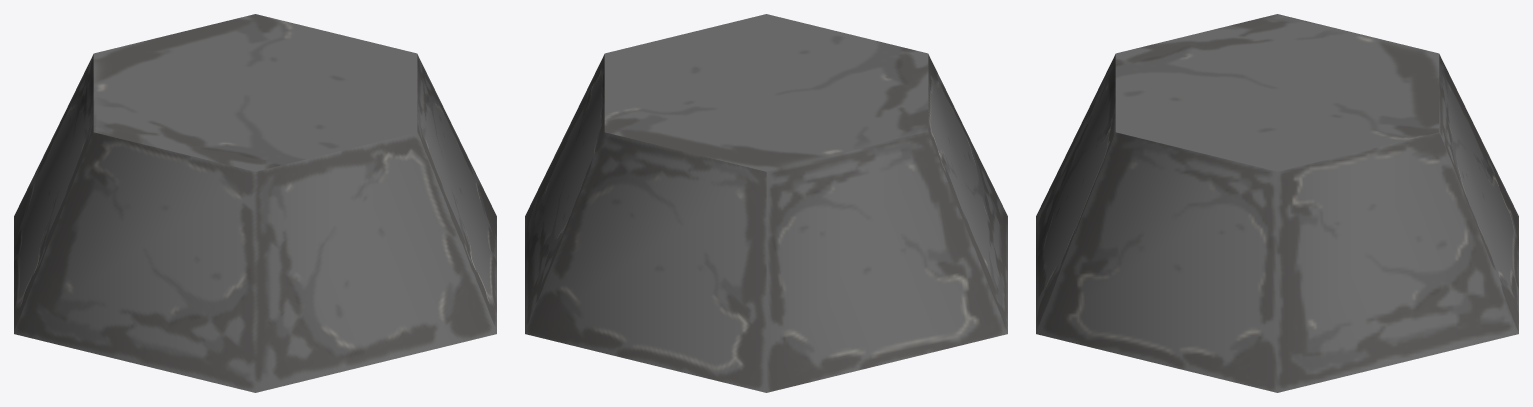
File: Rock_hexagon.FBX
3 renders of one model, left to right at view 1: azimuth 30°, elevation 25°; view 2: azimuth 150°, elevation 25°; view 3: azimuth 270°, elevation 25°, orthographic.
Visible parts, largest first — view 1: Rock2_hexagon; view 2: Rock2_hexagon; view 3: Rock2_hexagon.
Part boxes in pixels (x1=…): Rock2_hexagon: x1=14, y1=14, x2=496, y2=392; Rock2_hexagon: x1=525, y1=14, x2=1007, y2=392; Rock2_hexagon: x1=1036, y1=14, x2=1518, y2=392.
Bounding box in the file's own units: 17.79 × 15.41 × 6.42.
1 material, 1 textured.
